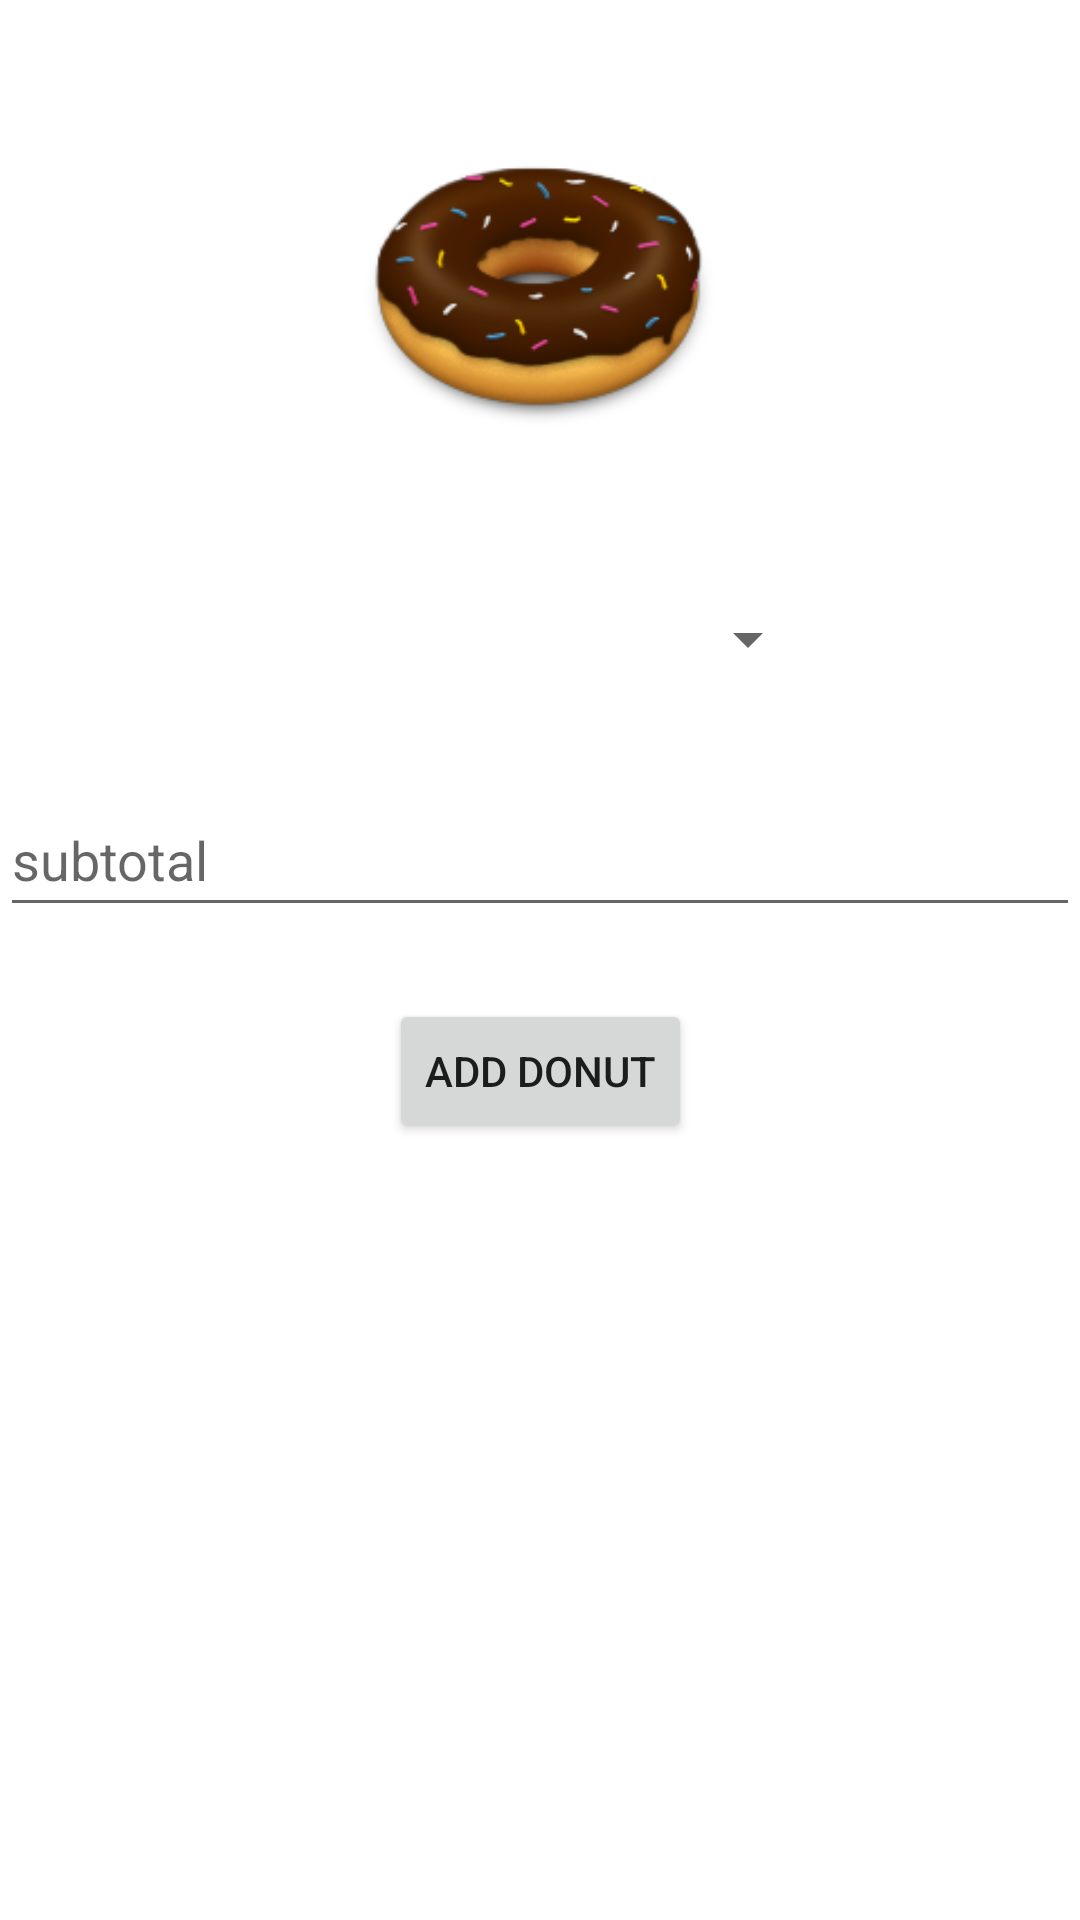

Screen size 1080×1920. Icon name, then its box in pixels as (x1, y1, x2, y2):
donut: (375, 168, 702, 416)
